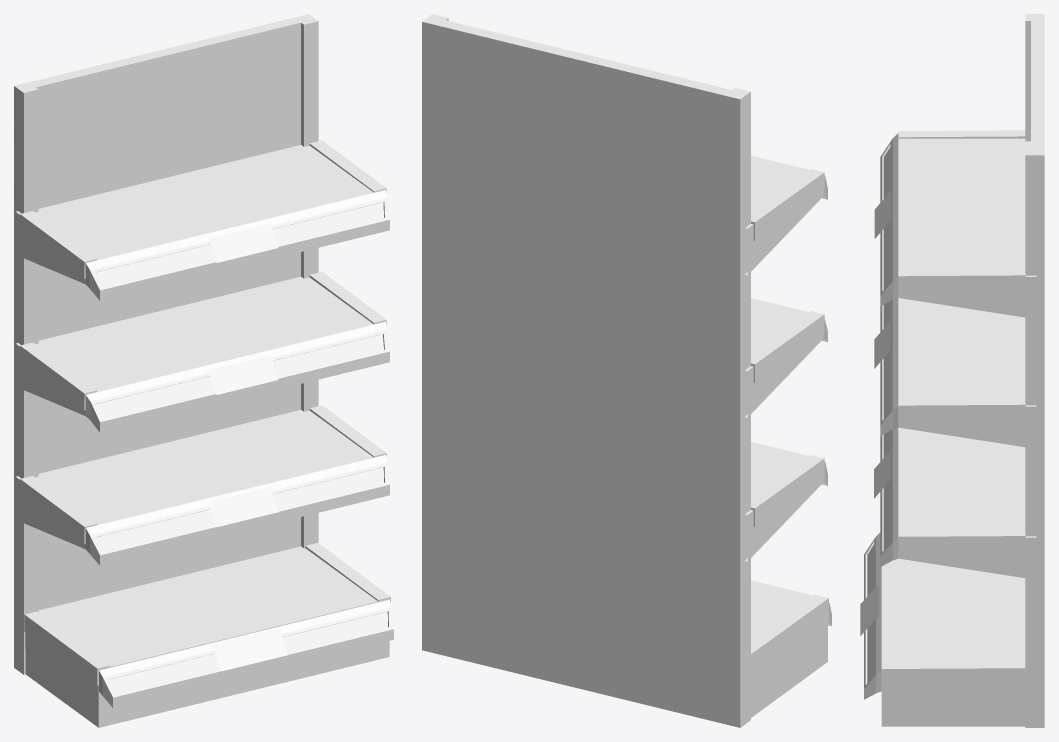
3 renders of one model, left to right at view 1: azimuth 30°, elevation 25°; view 2: azimuth 150°, elevation 25°; view 3: azimuth 270°, elevation 25°, orthographic. The views are drawn at different scales.
Visible parts, largest first — view 1: Tu2, P_1, P_4, P_2, P_3; view 2: Tu2; view 3: Tu2, P_1, P_2, P_4, P_3.
Boxes of the visible parts, <box> form: Tu2: <box>14,14,393,727</box>; P_1: <box>212,628,287,671</box>; P_4: <box>208,223,278,262</box>; P_2: <box>208,487,278,526</box>; P_3: <box>208,355,278,394</box>; Tu2: <box>422,14,831,727</box>; Tu2: <box>864,14,1044,727</box>; P_1: <box>860,584,878,635</box>; P_2: <box>874,451,890,498</box>; P_4: <box>874,191,890,238</box>; P_3: <box>874,321,890,368</box>.
Bounding box in the file's own units: 130 × 239 × 69.73.
